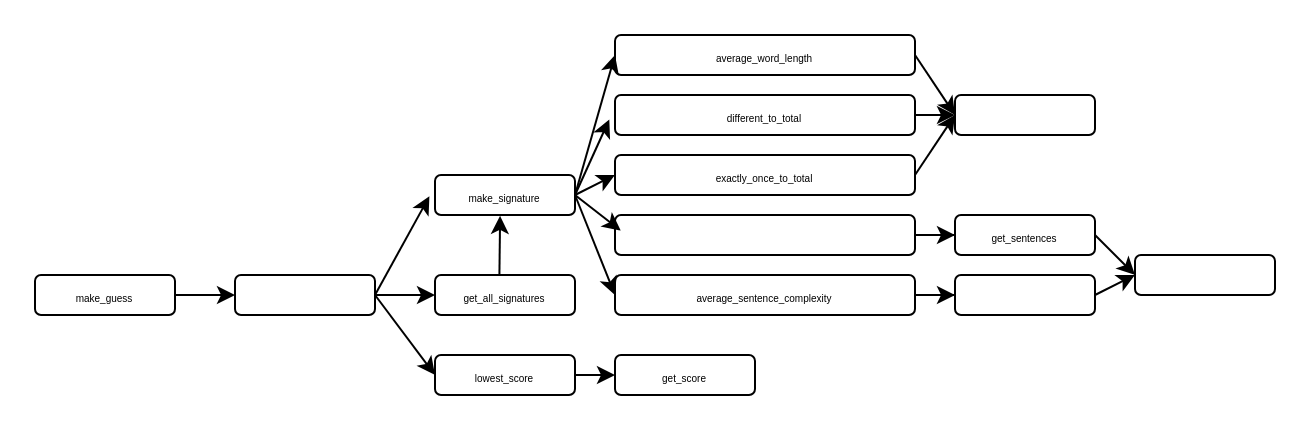
Some shapes in this 1310 by 430 pixel diagram are drawn without their labels. Here are the shapes that lost their labels. From the top down, the box of each, then its label:
(953, 93, 1095, 135): clean_word
(613, 213, 915, 255): average_sentence_lemgth
(233, 273, 375, 315): process_data
(953, 273, 1095, 315): clean_wrod
(1133, 253, 1275, 295): split_string
